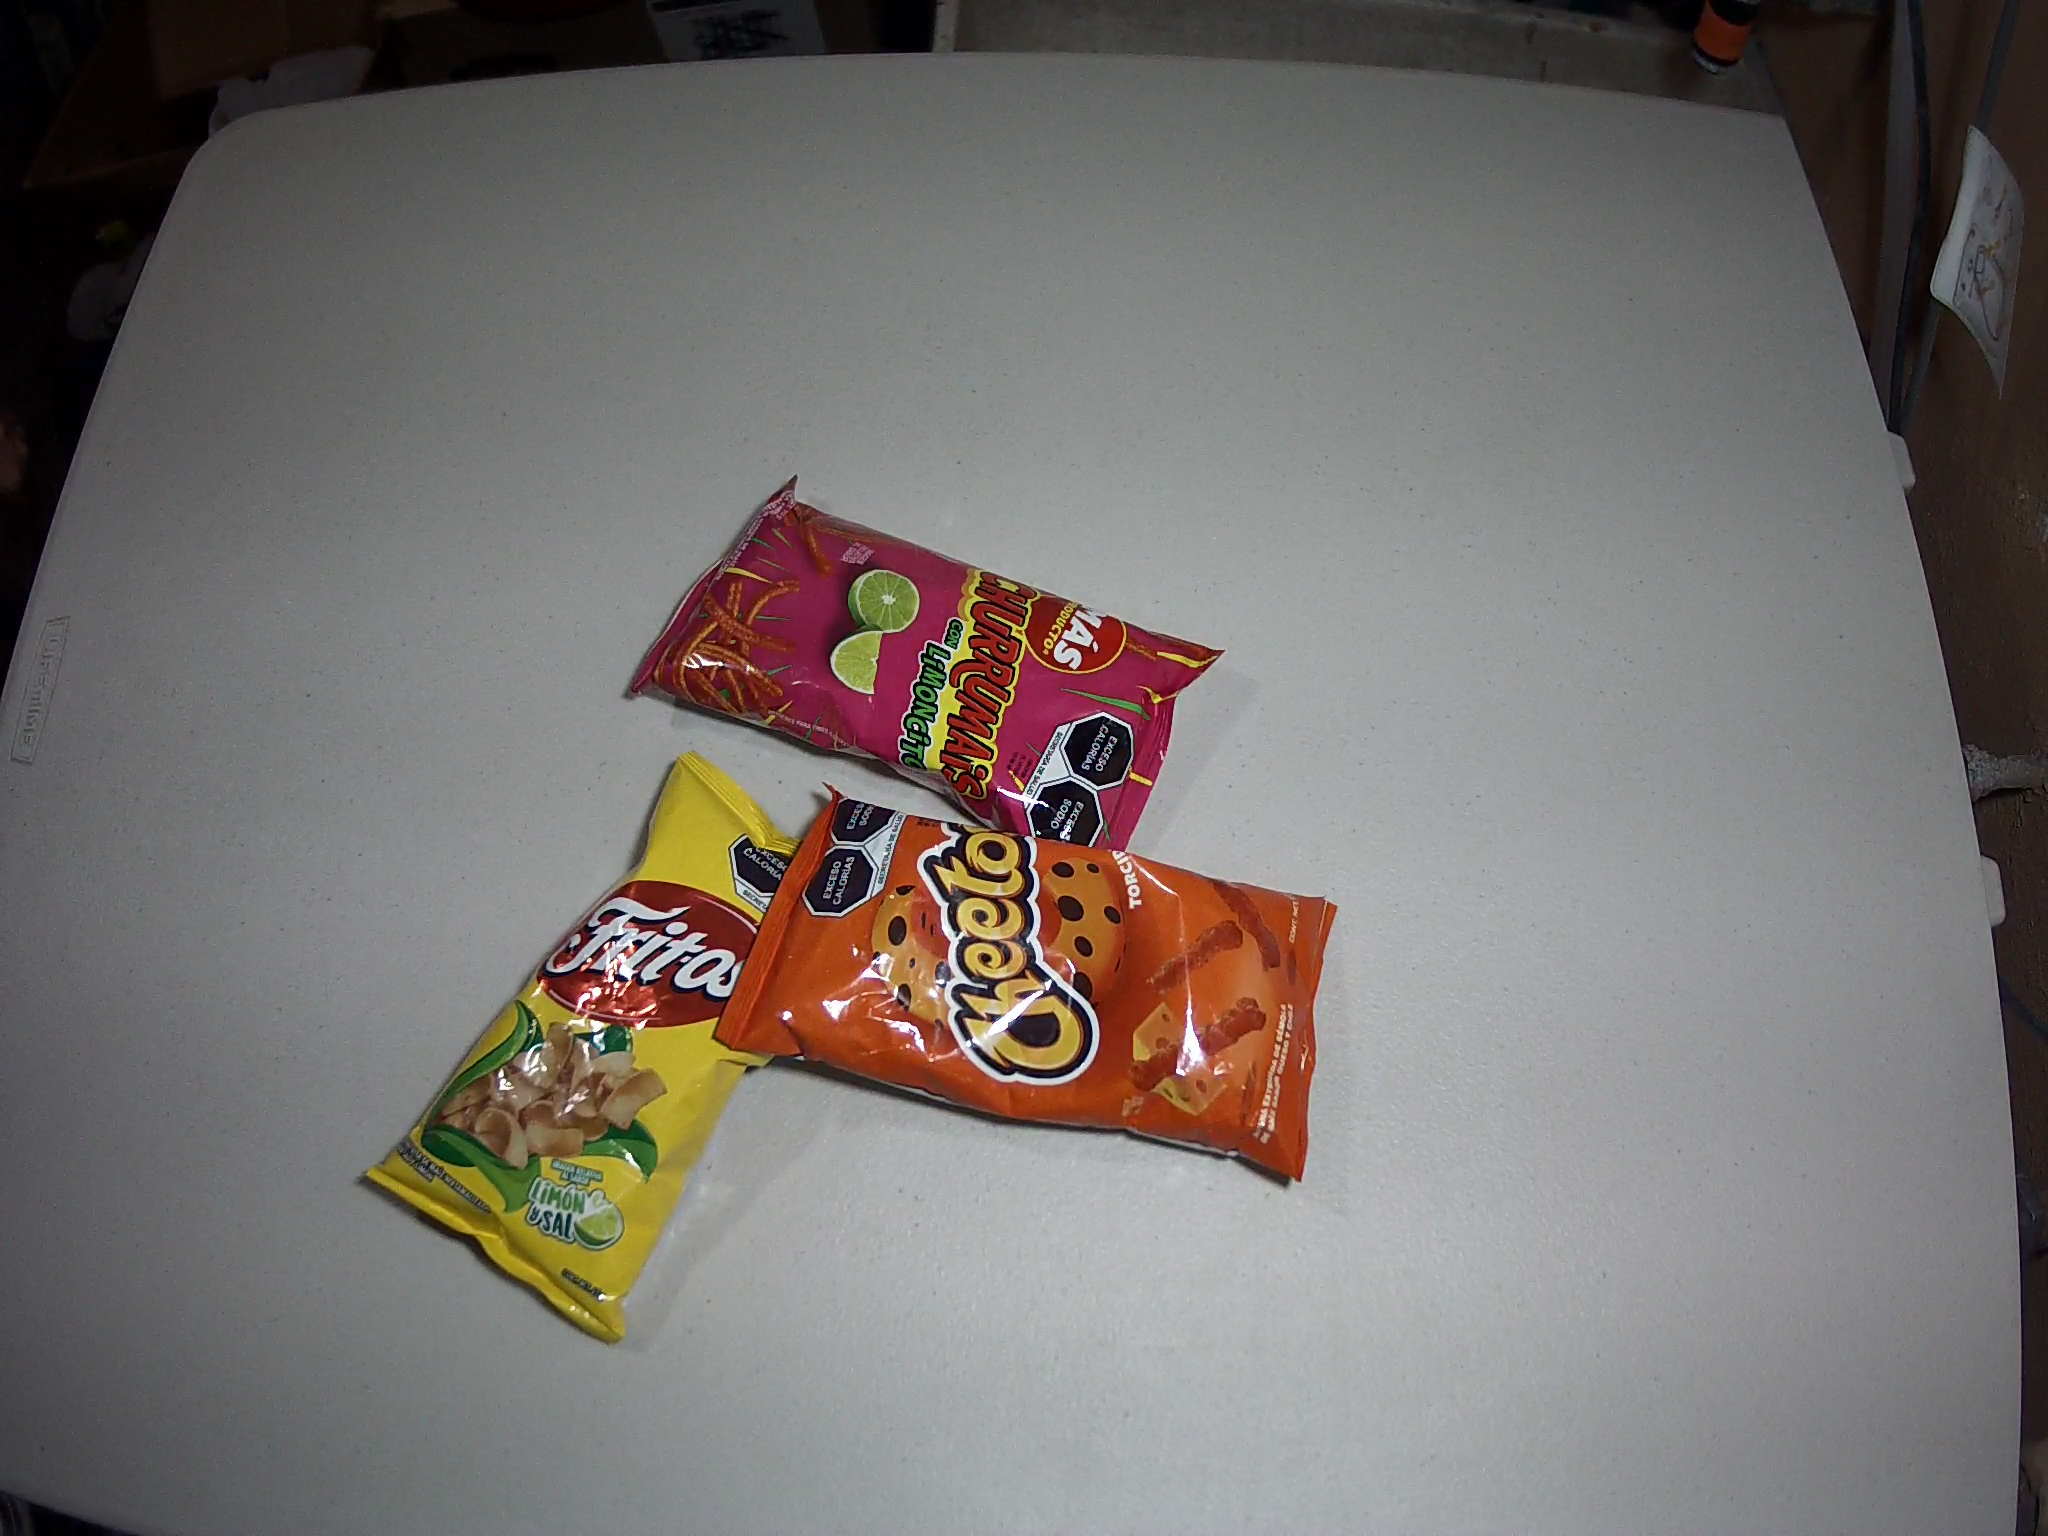CheetosTorciditos_55_F: (714, 778, 1342, 1183)
Churrumais_70_F: (631, 474, 1229, 866)
FritosSalLimon_65_F: (361, 747, 892, 1346)
